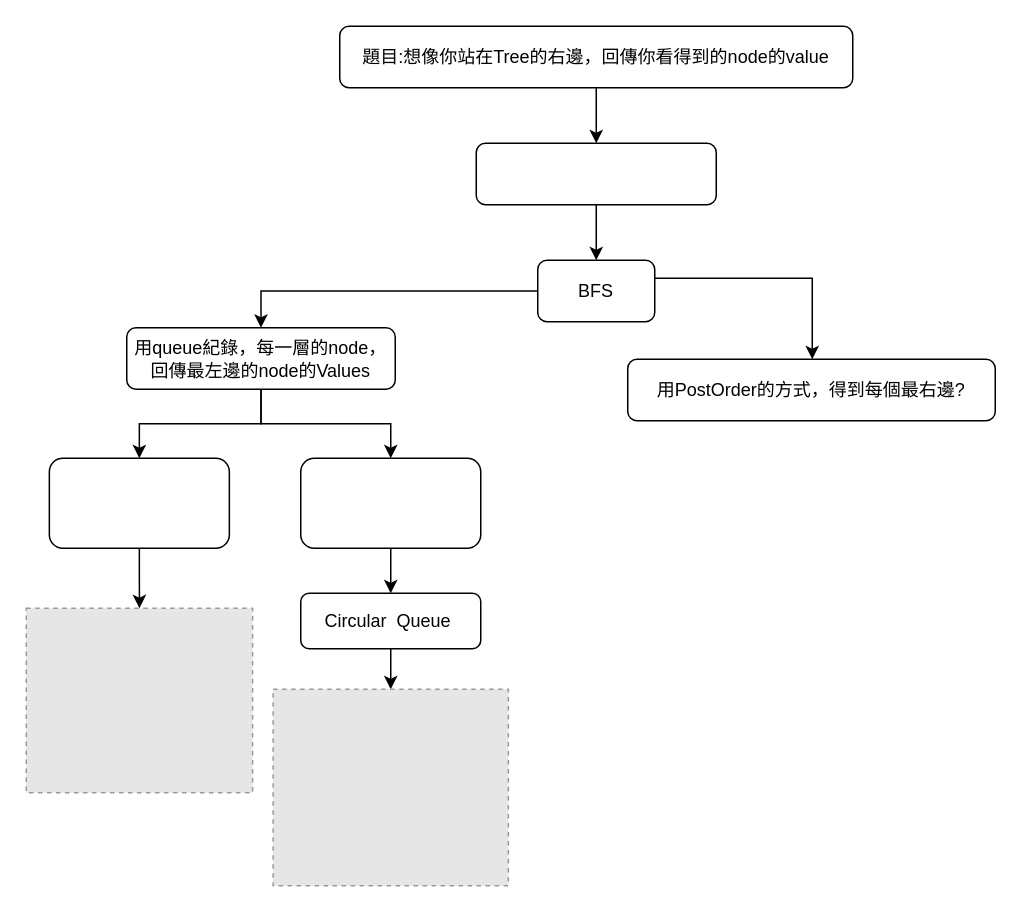
Image size: 1022x912. Some labels were removed from this diagram. Grey dashed boxes stand in for pictures. Each missing label, with the centre of its shape:
"C Code" belongs at (x=390, y=502).
"Python Code" belongs at (x=138, y=502).
"怎麼看到右邊的node" belongs at (x=595, y=173).
